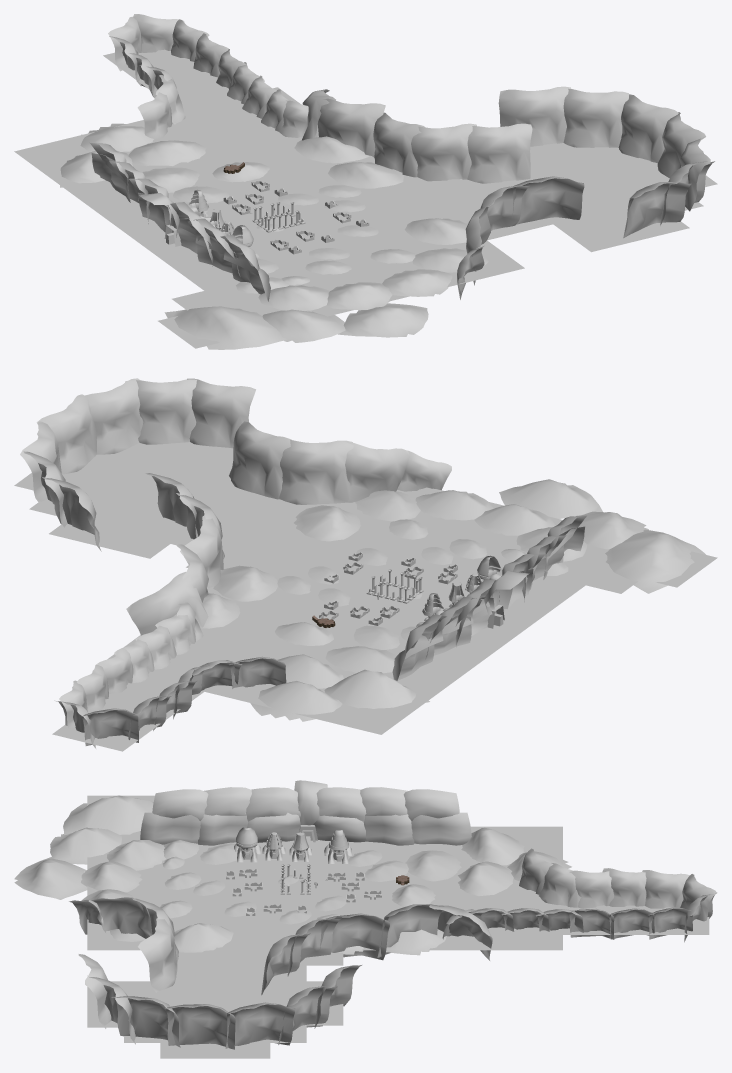
Rendered from Mundo5Todo.fbx.
The picture shows the model from 3 angles, top to bottom: view 1: azimuth 30°, elevation 25°; view 2: azimuth 150°, elevation 25°; view 3: azimuth 270°, elevation 25°; orthographic projection. The views are drawn at different scales.
Parts seen in each view (by area): view 1: Pared20, SueloArena220, Pared22, Pared21, Pared19, Pared28, Pared23, Pared16, SueloArena215, Pared27, Pared18, SueloArena216 (+73 smaller); view 2: Pared29, SueloArena220, Pared26, Pared27, Pared28, Pared25, Pared30, Pared24, SueloArena215, Pared17, SueloArena224, SueloArena226 (+78 smaller); view 3: m5_pared_roca3 (×2), m5_pared_roca8 (×2), m5_pared_roca6 (×2), m5_pared_roca1 (×2), SueloArena220, Pared24, m5_pared_roca7 (×2), Pared23, Pared18, m5_pared_roca2 (×2), SueloArena215, Pared25 (+71 smaller).
Boxes of the visible parts, bbox=[...] form: Pared20: bbox=[467, 123, 532, 183]; SueloArena220: bbox=[164, 306, 287, 349]; Pared22: bbox=[563, 88, 628, 147]; Pared21: bbox=[498, 86, 571, 146]; Pared19: bbox=[411, 123, 476, 181]; Pared28: bbox=[512, 176, 584, 224]; Pared23: bbox=[618, 94, 678, 162]; Pared16: bbox=[317, 98, 385, 157]; SueloArena215: bbox=[338, 303, 428, 337]; Pared27: bbox=[623, 182, 691, 238]; Pared18: bbox=[373, 112, 424, 177]; SueloArena216: bbox=[262, 309, 345, 342]; Pared29: bbox=[278, 440, 353, 504]; SueloArena220: bbox=[605, 529, 705, 593]; Pared26: bbox=[125, 379, 196, 444]; Pared27: bbox=[187, 378, 255, 448]; Pared28: bbox=[229, 421, 291, 499]; Pared25: bbox=[84, 378, 143, 454]; Pared30: bbox=[339, 441, 410, 502]; Pared24: bbox=[36, 394, 96, 474]; SueloArena215: bbox=[499, 479, 602, 518]; Pared17: bbox=[126, 572, 208, 635]; SueloArena224: bbox=[324, 669, 429, 708]; SueloArena226: bbox=[250, 681, 342, 721]; m5_pared_roca3 (×2): bbox=[140, 812, 471, 845]; m5_pared_roca8 (×2): bbox=[152, 789, 459, 820]; m5_pared_roca6 (×2): bbox=[246, 787, 365, 821]; m5_pared_roca1 (×2): bbox=[198, 813, 414, 845]; SueloArena220: bbox=[63, 795, 153, 834]; Pared24: bbox=[165, 1004, 235, 1049]; m5_pared_roca7 (×2): bbox=[204, 787, 407, 815]; Pared23: bbox=[225, 1002, 295, 1048]; Pared18: bbox=[319, 913, 389, 960]; m5_pared_roca2 (×2): bbox=[247, 812, 366, 842]; SueloArena215: bbox=[14, 857, 87, 899]; Pared25: bbox=[111, 996, 180, 1047].
Size of the model in its own units: 2357 by 281 by 2667.
